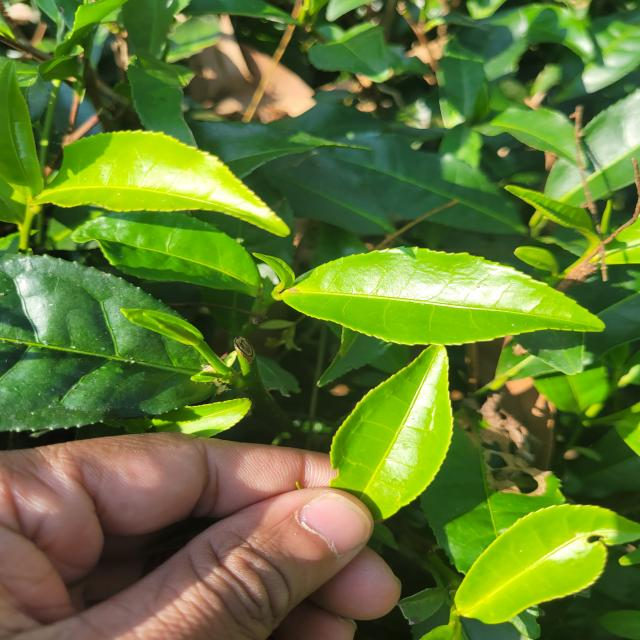Catagory A(1-2 days): (318, 327, 462, 525)
